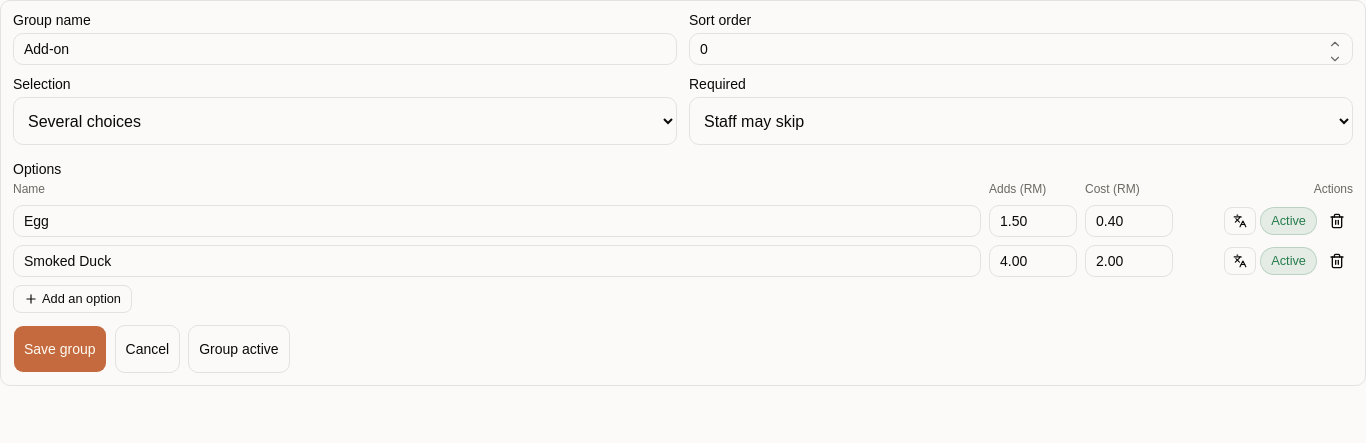
Test: the option table lays each field out in its own column › lays a newly added option out exactly like the existing ones
Click the button with test id "modifier-add-option" at (72, 299), box [13,285,132,313]
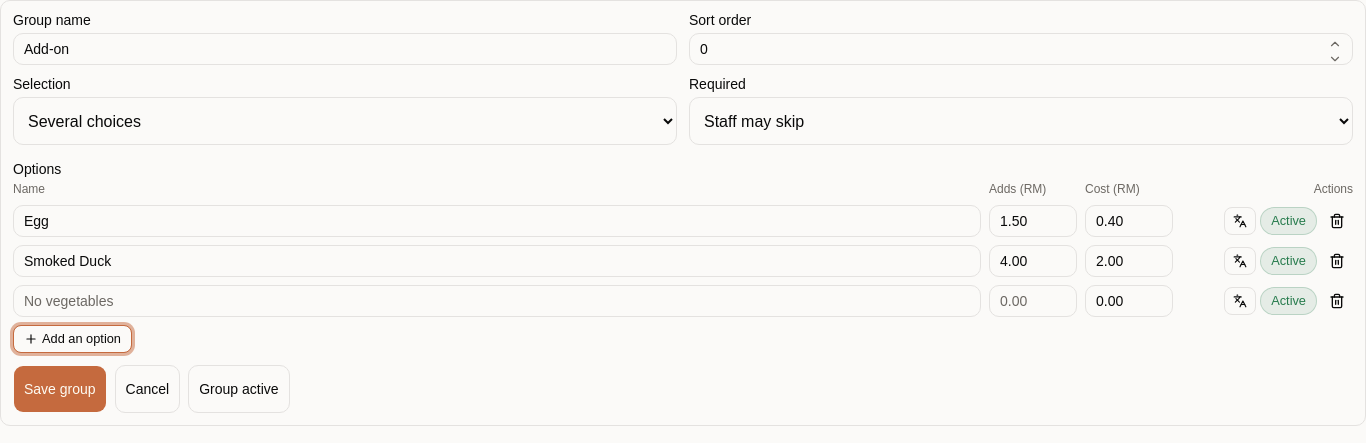
Expected: the number of elements with test id "option-row" is 3, [13,205,1353,237]; [13,245,1353,277]; [13,285,1353,317]
Expected: the number of fields named "Name" is 1, [13,285,981,317]
Expected: the field with test id "option-cost" holds "0.00", [1085,285,1173,317]
